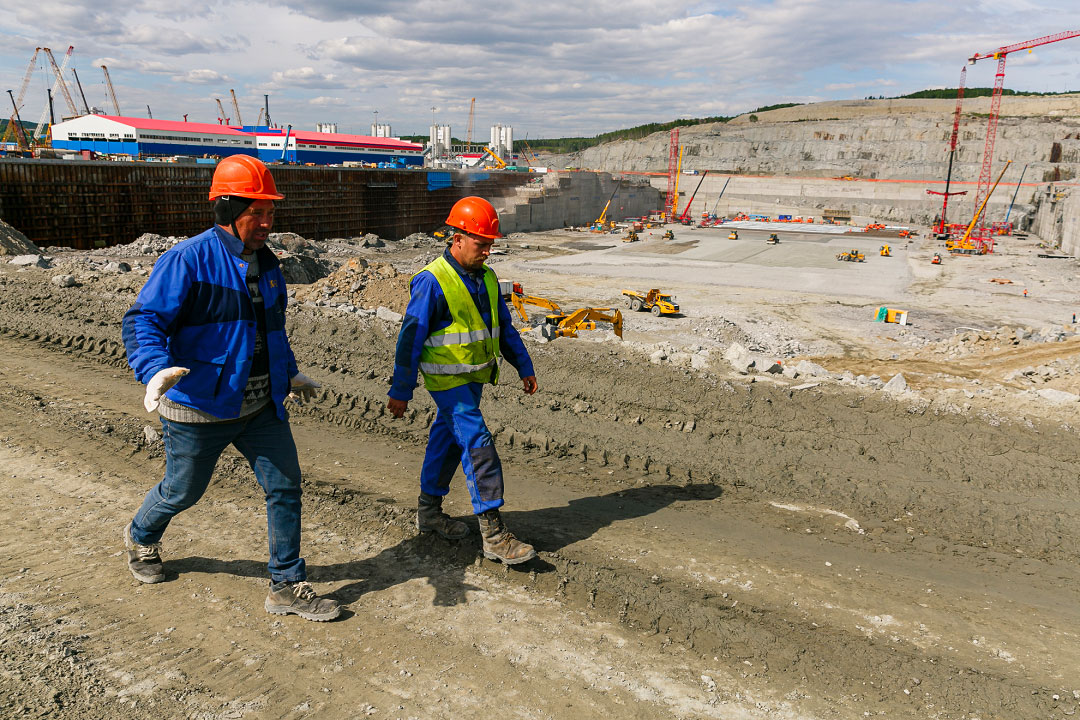With Helmet: (205, 153, 289, 247), (443, 194, 508, 274)
